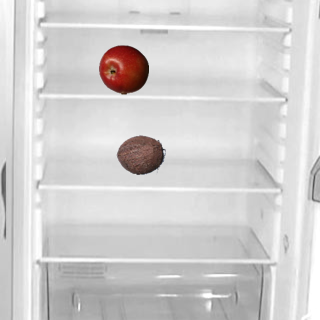Apple Braeburn: (98, 44, 148, 94)
Cocos: (115, 129, 165, 179)
